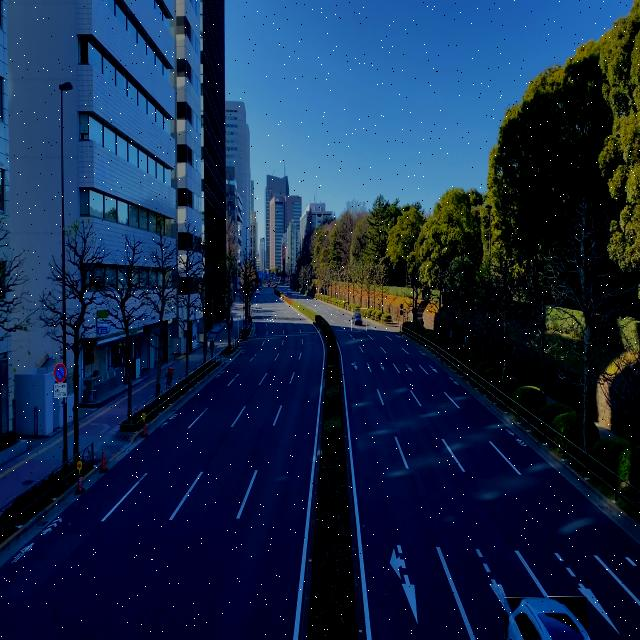Car: (504, 596, 588, 640), (352, 308, 367, 331)
